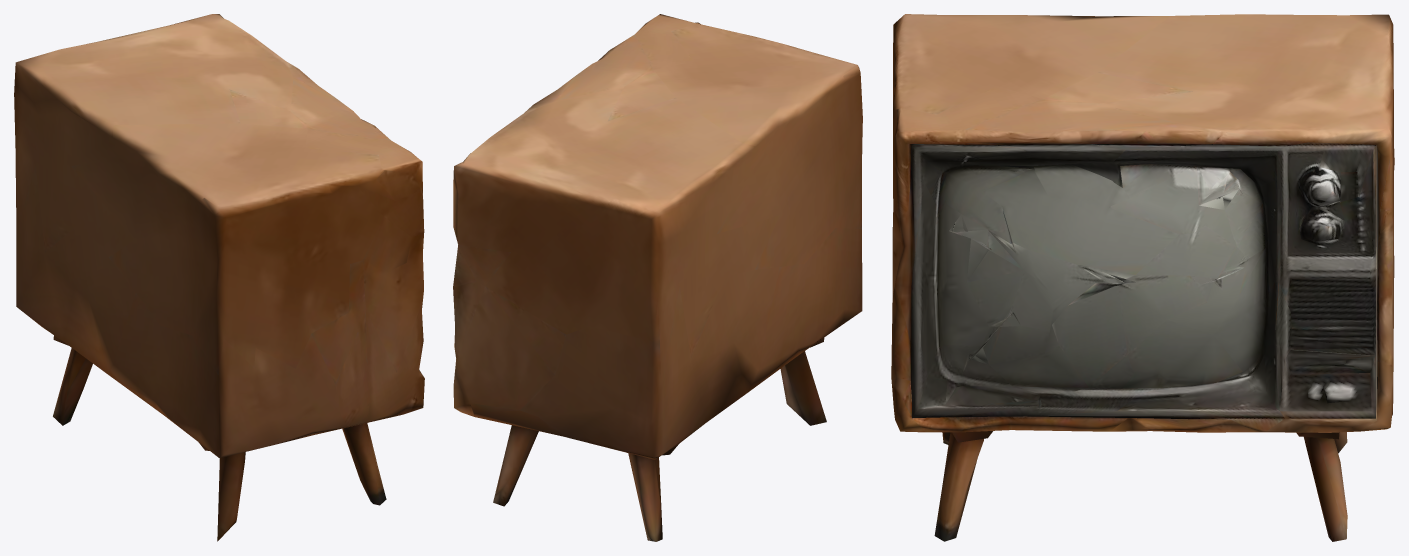
3 renders of one model, left to right at view 1: azimuth 30°, elevation 25°; view 2: azimuth 150°, elevation 25°; view 3: azimuth 270°, elevation 25°, orthographic. The views are drawn at different scales.
Parts seen in each view (by area): view 1: tripo_node_6562d0fc-430c-4b52-88b0-2d0c76aa24b3; view 2: tripo_node_6562d0fc-430c-4b52-88b0-2d0c76aa24b3; view 3: tripo_node_6562d0fc-430c-4b52-88b0-2d0c76aa24b3.
Boxes of the visible parts, x1,y1,x2,y2 form: tripo_node_6562d0fc-430c-4b52-88b0-2d0c76aa24b3: (14, 14, 424, 541); tripo_node_6562d0fc-430c-4b52-88b0-2d0c76aa24b3: (453, 14, 862, 541); tripo_node_6562d0fc-430c-4b52-88b0-2d0c76aa24b3: (891, 14, 1394, 541).
Size of the model in its own units: 0.6114 by 0.9335 by 1.
Materials: 1 (1 with a texture image).
